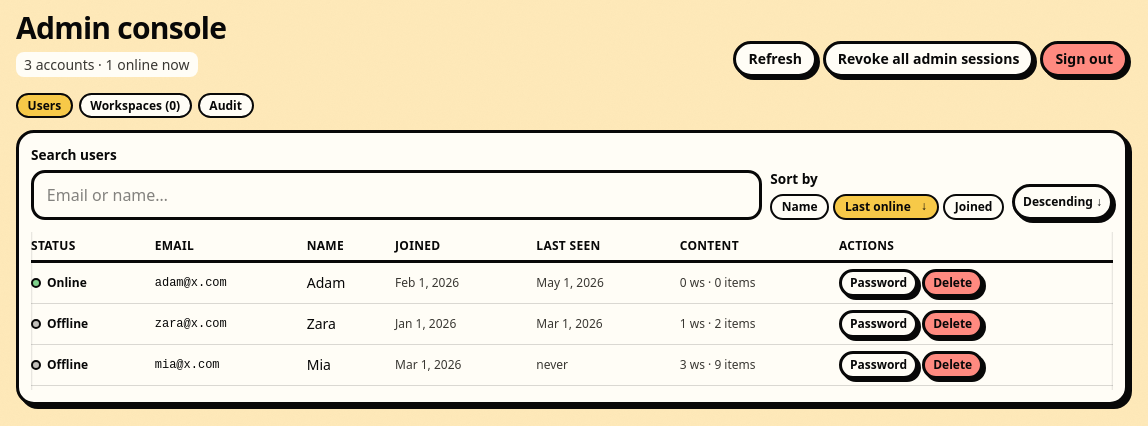
it: admin user table › reports how many matched
The image size is (1148, 426).
In the search field labelled "Search users": (397, 195) x1=31 y1=170 x2=762 y2=220, type "@x.com"
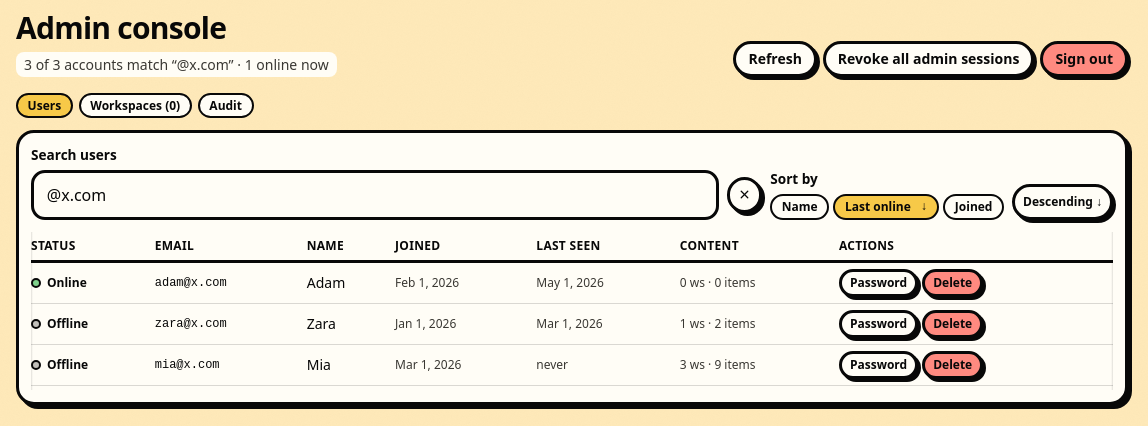
Expected: the text "3 of 3 accounts match “@x.com” · 1 online now" is shown, x1=16 y1=52 x2=337 y2=77
